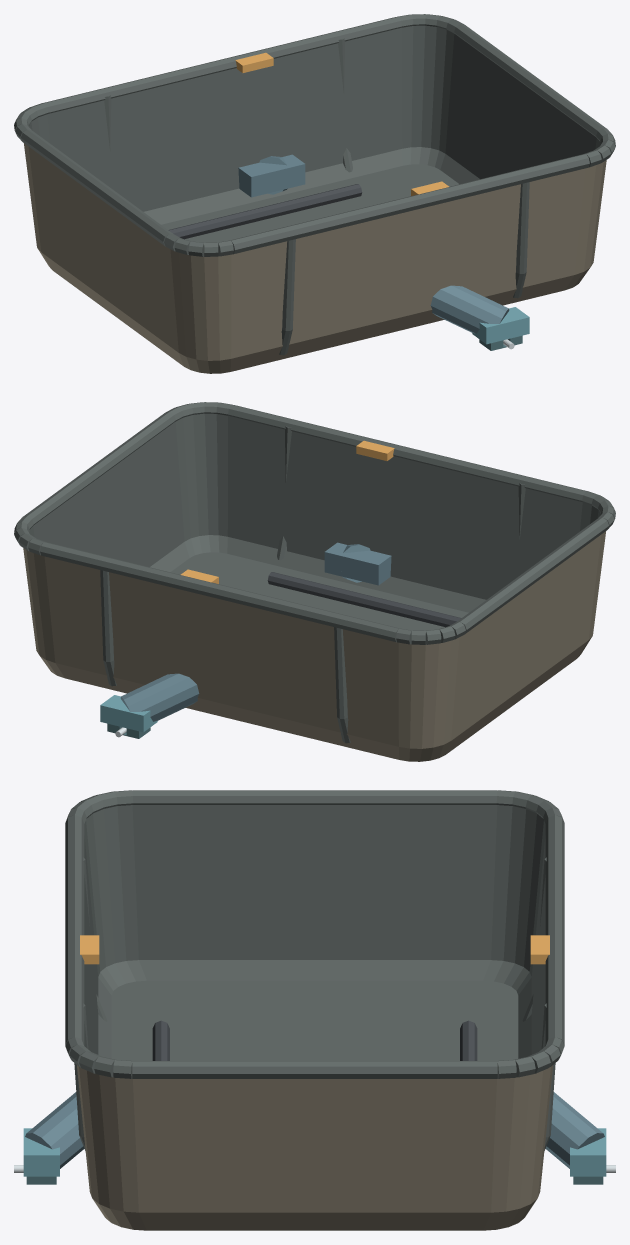
The picture shows the model from 3 angles, top to bottom: view 1: azimuth 30°, elevation 25°; view 2: azimuth 150°, elevation 25°; view 3: azimuth 270°, elevation 25°; orthographic projection. The views are drawn at different scales.
Parts seen in each view (by area): view 1: S13_Cabin, S13_Cabin_Mount_M; view 2: S13_Cabin, S13_Cabin_Mount_M; view 3: S13_Cabin, S13_Cabin_Mount_M.
Boxes of the visible parts, bbox=[...] form: S13_Cabin: bbox=[14, 14, 615, 373]; S13_Cabin_Mount_M: bbox=[238, 154, 529, 350]; S13_Cabin: bbox=[14, 402, 615, 761]; S13_Cabin_Mount_M: bbox=[100, 542, 391, 738]; S13_Cabin: bbox=[65, 790, 564, 1230]; S13_Cabin_Mount_M: bbox=[14, 1092, 615, 1184].
Size of the model in its own units: 0.618 by 0.206 by 0.564.
